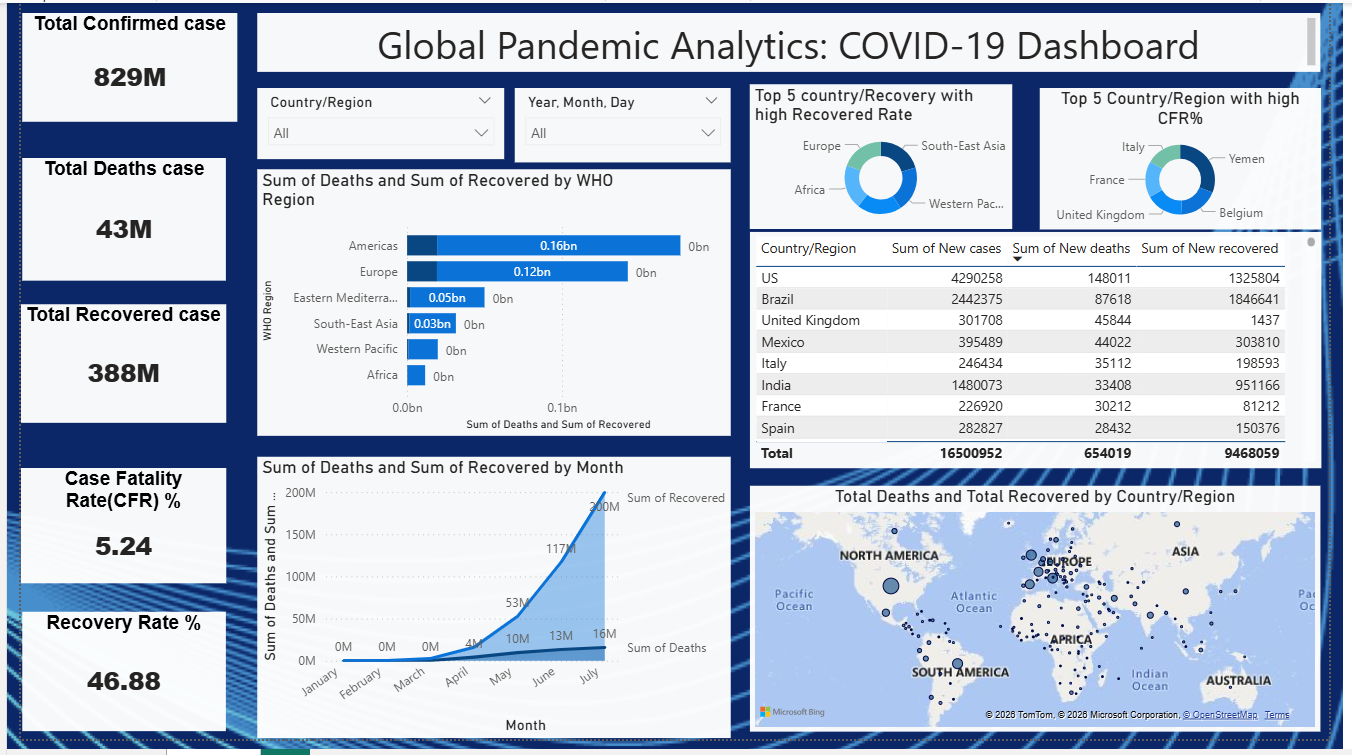

This screenshot's page, from the dashboard's own definition file:
{"tool":"powerbi","page":{"name":"Page 1","canvas":[1280,720],"ordinal":0},"visuals":[{"type":"barChart","fields":{"Category":["COVID19_Dataset.WHO Region"],"Y":["Sum(COVID19_Dataset.Deaths)","Sum(COVID19_Dataset.Recovered)"]},"box":[230.8,163,463.1,261.1],"z":0},{"type":"lineChart","fields":{"Category":["COVID19_Dataset.Date.Variation.Date Hierarchy.Month"],"Y":["Sum(COVID19_Dataset.Deaths)","Sum(COVID19_Dataset.Recovered)"]},"box":[230.8,444.4,463.1,275.6],"z":1000},{"type":"donutChart","title":"Top 5 Country/Region with high CFR%","fields":{"Category":["COVID19_Dataset.Country/Region"],"Y":["COVID19_Dataset.CFR%"]},"box":[996.6,83.2,275.1,138.2],"z":2000},{"type":"donutChart","title":"Top 5 country/Recovery with high Recovered Rate ","fields":{"Category":["COVID19_Dataset.WHO Region"],"Y":["COVID19_Dataset.Recovery %"]},"box":[712.9,79.5,256.8,141.8],"z":3000},{"type":"map","title":"Total Deaths and Total Recovered by Country/Region","fields":{"Category":["COVID19_Dataset.Country/Region"],"Size":["Sum(COVID19_Dataset.Deaths)"]},"box":[712.7,471.8,558.3,240.9],"z":4000},{"type":"tableEx","fields":{"Values":["COVID19_Dataset.Country/Region","Sum(COVID19_Dataset.New cases)","Sum(COVID19_Dataset.New deaths)","Sum(COVID19_Dataset.New recovered)"]},"box":[712.9,223.8,558.8,231.1],"z":5000},{"type":"card","title":"Total Confirmed case","fields":{"Values":["Sum(COVID19_Dataset.Confirmed)"]},"box":[1.4,10.1,210.6,106.8],"z":5001},{"type":"card","title":"Total Recovered case","fields":{"Values":["Sum(COVID19_Dataset.Recovered)"]},"box":[0,294.7,200.5,116.2],"z":5002},{"type":"card","title":"Total Deaths case","fields":{"Values":["Sum(COVID19_Dataset.Deaths)"]},"box":[1.2,151.6,199.3,119.8],"z":5003},{"type":"card","title":"Case Fatality Rate(CFR) %   ","fields":{"Values":["COVID19_Dataset.CFR%"]},"box":[0,454.9,200.5,112.5],"z":5004},{"type":"card","title":"Recovery Rate %   ","fields":{"Values":["COVID19_Dataset.Recovery %"]},"box":[1.4,595.9,199.1,116.9],"z":5005},{"type":"textbox","box":[230.8,10.1,1040.2,57.7],"z":5006},{"type":"slicer","fields":{"Values":["COVID19_Dataset.Country/Region"]},"box":[231.1,83.6,241.8,69.3],"z":5008},{"type":"slicer","fields":{"Values":["COVID19_Dataset.Date.Variation.Date Hierarchy.Year","COVID19_Dataset.Date.Variation.Date Hierarchy.Month","COVID19_Dataset.Date.Variation.Date Hierarchy.Day"]},"box":[483.6,83.6,211.6,72.9],"z":5009}]}

Visuals, with their boxes in screenshot pixels (x1, y1, x2, y2), scaled from the page's 1280x720 canvas onto the 1352x755 screenshot:
barChart - COVID19_Dataset.WHO Region x Sum(COVID19_Dataset.Deaths): bbox=[244, 171, 733, 445]
lineChart - COVID19_Dataset.Date.Variation.Date Hierarchy.Month x Sum(COVID19_Dataset.Deaths): bbox=[244, 466, 733, 754]
"Top 5 Country/Region with high CFR%" donutChart: bbox=[1053, 87, 1343, 232]
"Top 5 country/Recovery with high Recovered Rate " donutChart: bbox=[753, 83, 1024, 232]
"Total Deaths and Total Recovered by Country/Region" map: bbox=[753, 495, 1342, 747]
tableEx - COVID19_Dataset.Country/Region x Sum(COVID19_Dataset.New cases): bbox=[753, 235, 1343, 477]
"Total Confirmed case" card: bbox=[1, 11, 224, 123]
"Total Recovered case" card: bbox=[0, 309, 212, 431]
"Total Deaths case" card: bbox=[1, 159, 212, 285]
"Case Fatality Rate(CFR) %   " card: bbox=[0, 477, 212, 595]
"Recovery Rate %   " card: bbox=[1, 625, 212, 747]
textbox: bbox=[244, 11, 1342, 71]
slicer - COVID19_Dataset.Country/Region: bbox=[244, 88, 500, 160]
slicer - COVID19_Dataset.Date.Variation.Date Hierarchy.Year x COVID19_Dataset.Date.Variation.Date Hierarchy.Month: bbox=[511, 88, 734, 164]
